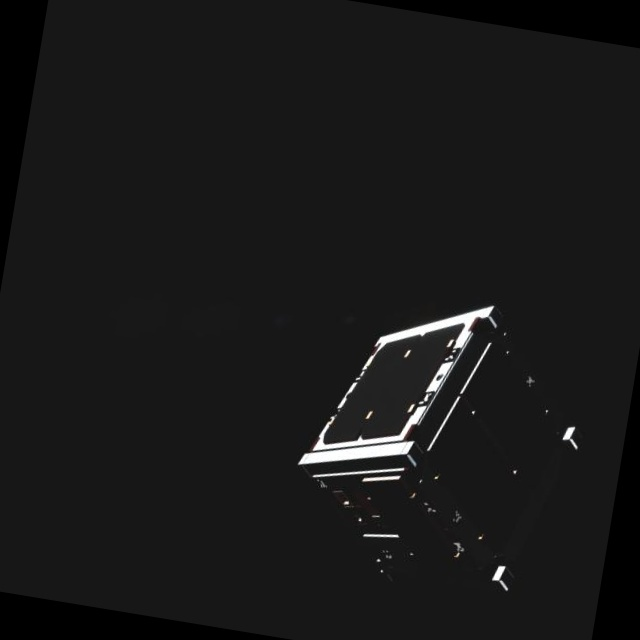medium_debris: (283, 278, 618, 623)
